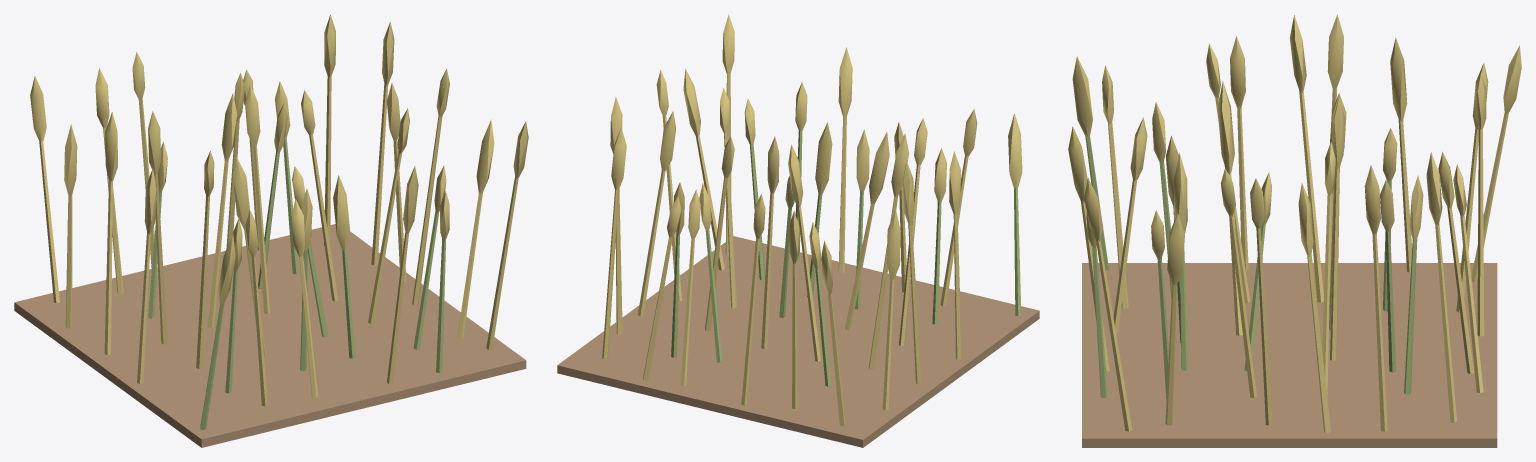
Rendered from hearthvale_crop_patch.glb.
3 renders of one model, left to right at view 1: azimuth 30°, elevation 25°; view 2: azimuth 150°, elevation 25°; view 3: azimuth 270°, elevation 25°, orthographic. The views are drawn at different scales.
Visible parts, largest first — view 1: hv_crop_patch; view 2: hv_crop_patch; view 3: hv_crop_patch.
Part boxes in pixels (x1,y1,x2,y2): hv_crop_patch: (14,14,528,447); hv_crop_patch: (557,14,1039,447); hv_crop_patch: (1068,14,1521,447).
Size of the model in its own units: 2.06 by 1.51 by 2.18.
